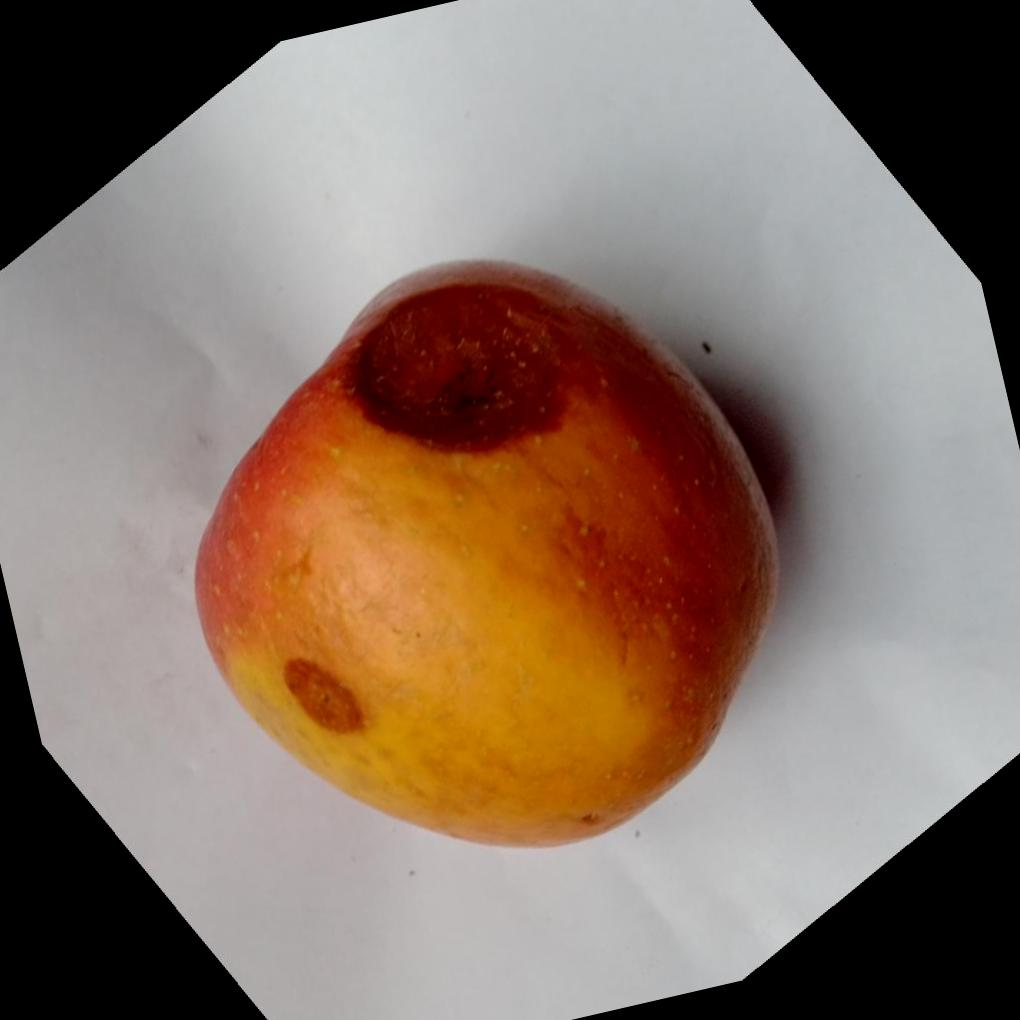FreshOrange: (191, 253, 781, 847)
